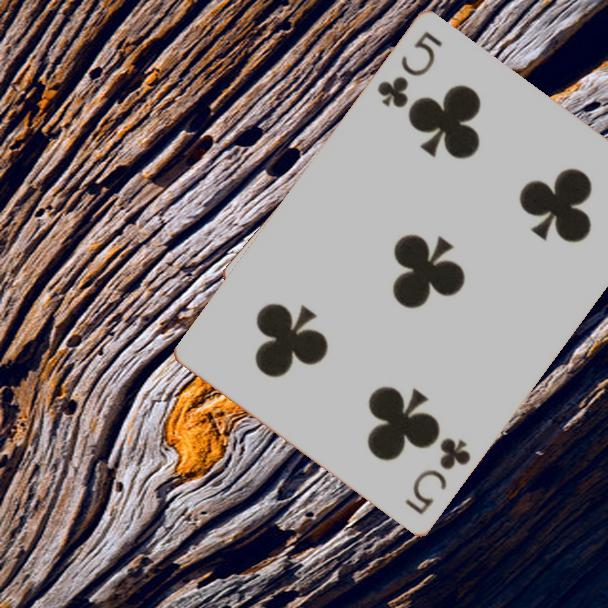c05: (401, 434, 474, 519), (373, 28, 446, 112)
